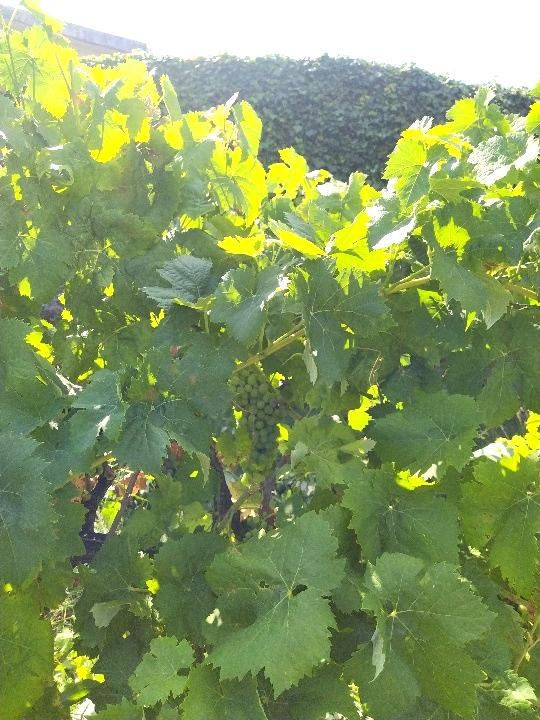grape: (228, 367, 290, 496)
